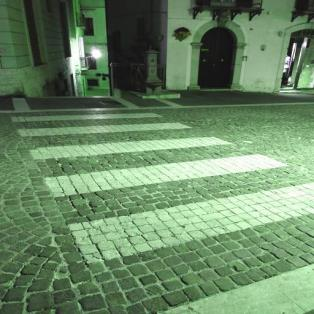Paso de Cebra: (24, 134, 299, 200)
